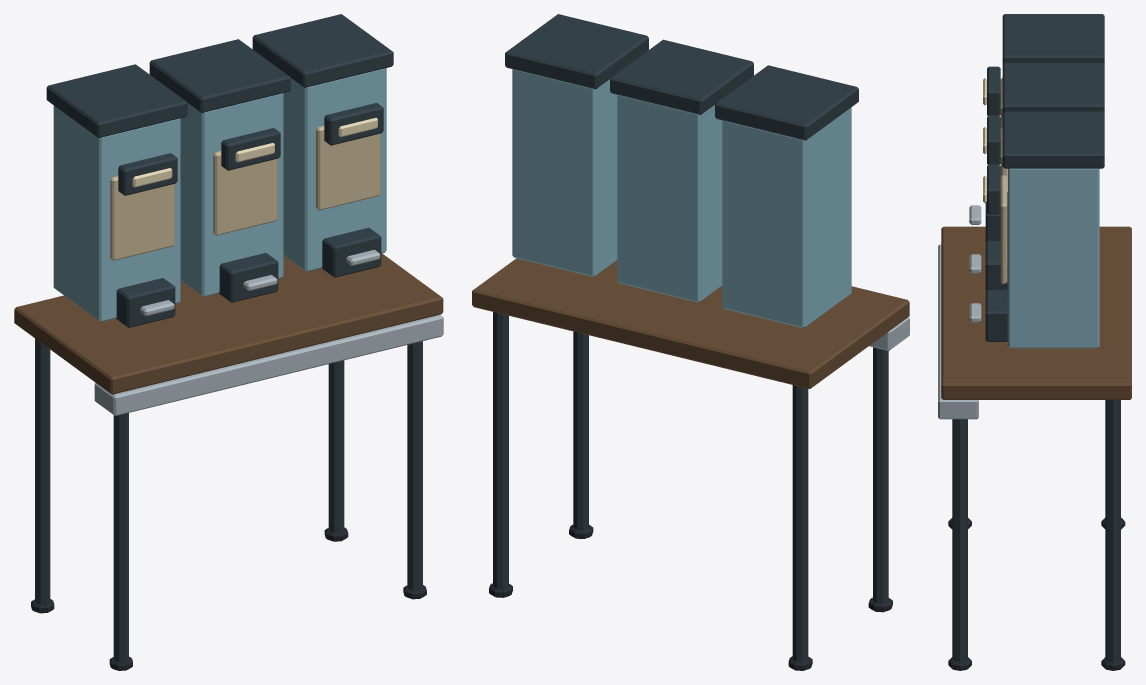
Rendered from b10_bulk_nut_dispenser_stand.glb.
3 renders of one model, left to right at view 1: azimuth 30°, elevation 25°; view 2: azimuth 150°, elevation 25°; view 3: azimuth 270°, elevation 25°, orthographic. The views are drawn at different scales.
Parts seen in each view (by area): view 1: b10_bulk_nut_dispenser_stand; view 2: b10_bulk_nut_dispenser_stand; view 3: b10_bulk_nut_dispenser_stand.
Boxes of the visible parts, <box> form: b10_bulk_nut_dispenser_stand: <box>14,14,443,670</box>; b10_bulk_nut_dispenser_stand: <box>472,14,909,670</box>; b10_bulk_nut_dispenser_stand: <box>938,14,1131,670</box>.
Size of the model in its own units: 1.1 by 1.66 by 0.57.
